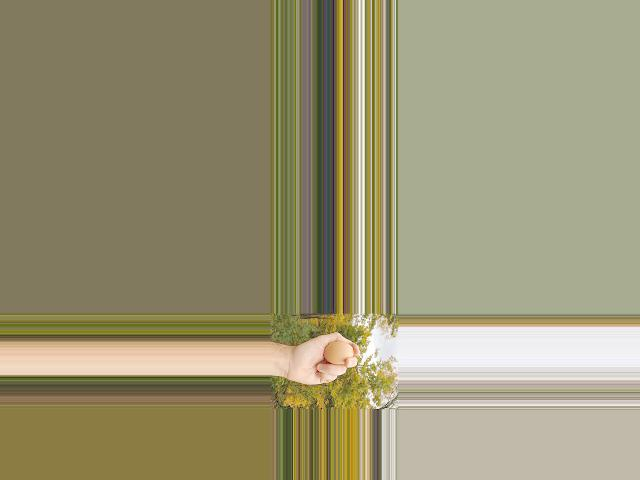egg: (324, 341, 353, 365)
